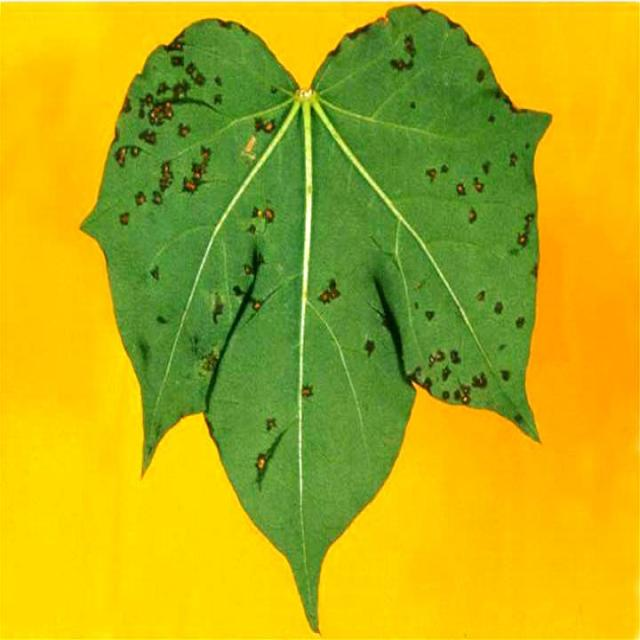Bacterial Blight: (108, 44, 242, 309)
